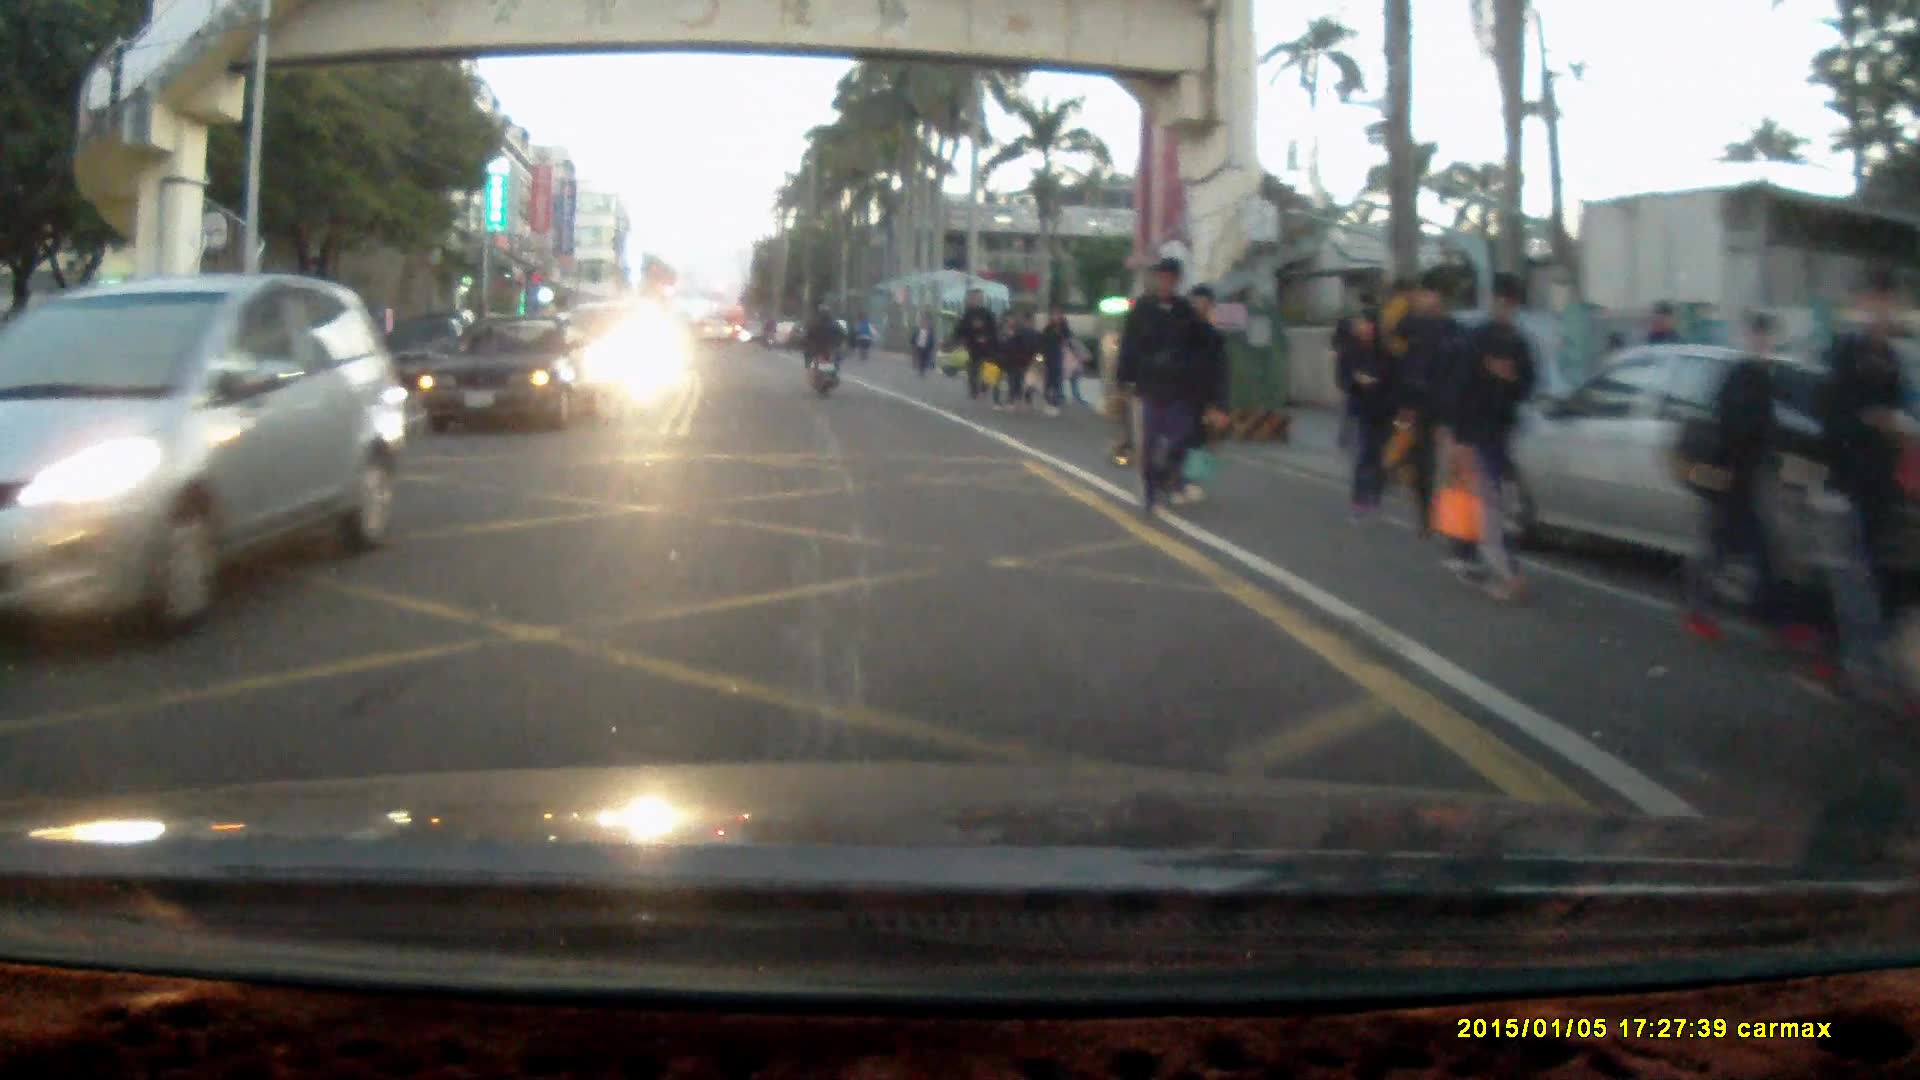pedestrian: (1797, 270, 1920, 717), (1684, 309, 1815, 681), (1443, 266, 1546, 602), (1111, 250, 1204, 510), (1394, 273, 1472, 533), (1163, 280, 1232, 490), (1336, 305, 1400, 524), (1035, 305, 1078, 418), (957, 285, 996, 405), (990, 303, 1031, 408), (908, 309, 934, 377)
rider: (802, 301, 845, 398)
vehicle: (1, 271, 408, 662), (1465, 337, 1889, 631), (421, 311, 608, 431)
